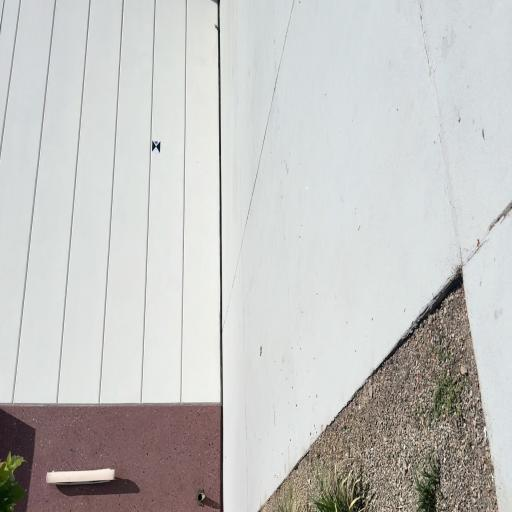target4: (152, 140, 161, 153)
